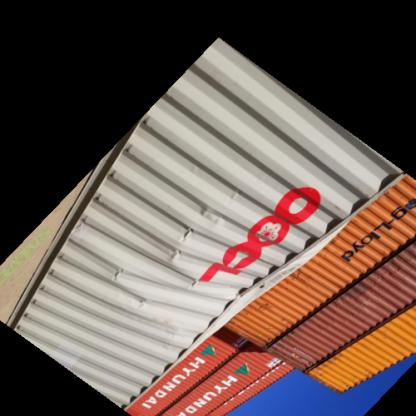Damage: (122, 178, 302, 348)
